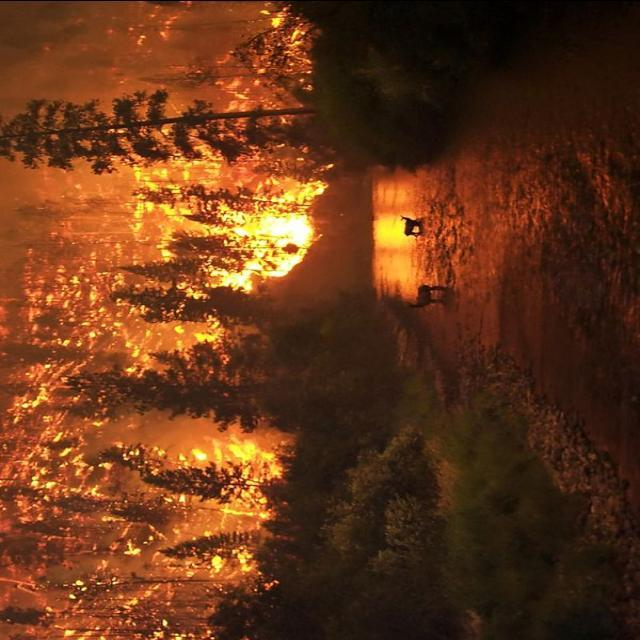Fire: (7, 308, 288, 634), (126, 11, 333, 295)
